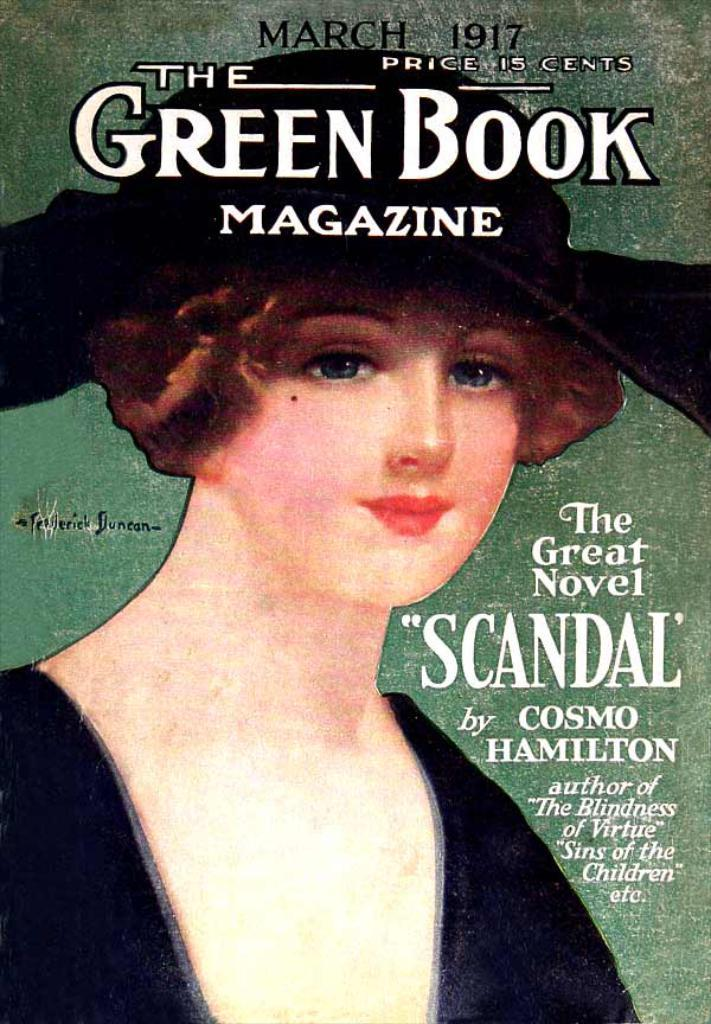Hat: (1, 44, 710, 436)
